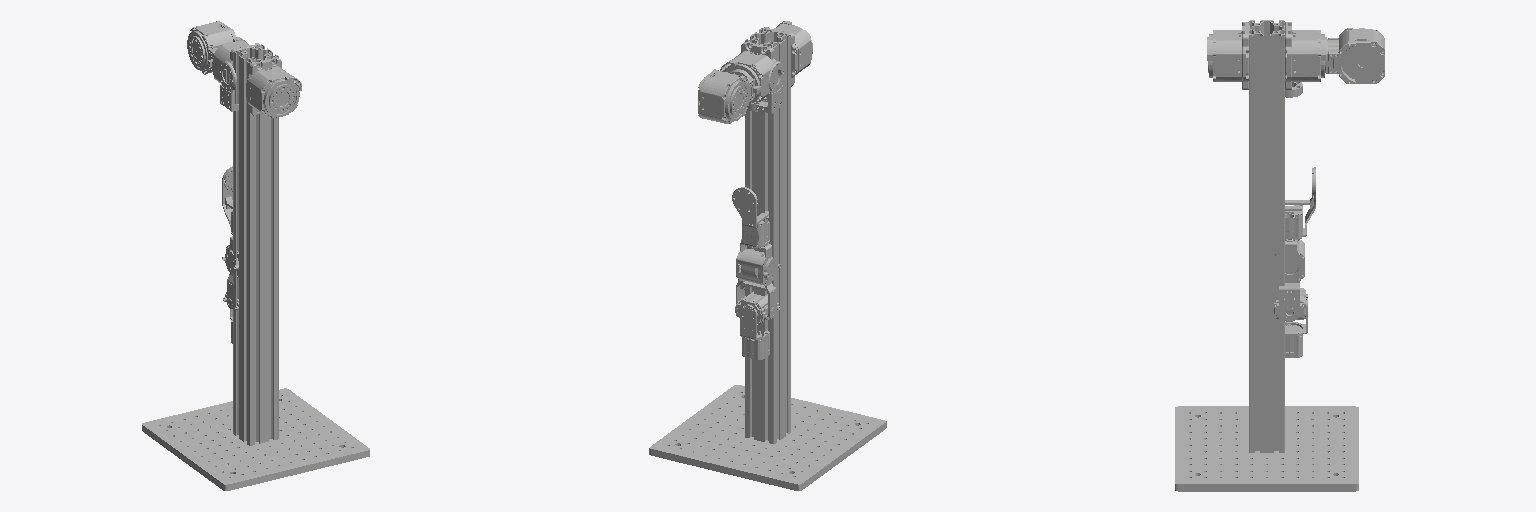
robot.urdf — LiteArm_A10_LeftArm:
<?xml version="1.0" encoding="utf-8"?>
<!-- Left arm display URDF with visual meshes -->
<robot name="LiteArm_A10_LeftArm">
  <link name="base_link">
    <inertial>
      <origin xyz="0.0 0.0 0.05542218" rpy="0 0 0" />
      <mass value="10.57317707" />
      <inertia ixx="0.35705741" ixy="0.0" ixz="0.0" iyy="0.35705741" iyz="0.0" izz="0.13447021" />
    </inertial>
    <visual>
      <origin xyz="0 0 0" rpy="0 0 0" />
      <geometry>
        <mesh filename="package://litearm_a10_251125/meshes/base_link.STL" />
      </geometry>
      <material name="">
        <color rgba="0.752941176470588 0.752941176470588 0.752941176470588 1" />
      </material>
    </visual>
    <collision>
      <origin xyz="0 0 0" rpy="0 0 0" />
      <geometry>
        <mesh filename="package://litearm_a10_251125/meshes/base_link_simplify.STL" />
      </geometry>
    </collision>
  </link>
  <link name="torso_link">
    <inertial>
      <origin xyz="0.00013737 0.0 0.00018058" rpy="0 0 0" />
      <mass value="2.04147618" />
      <inertia ixx="0.01168081" ixy="4.23e-06" ixz="-7.21e-06" iyy="0.00229997" iyz="0.0" izz="0.01155229" />
    </inertial>
    <visual>
      <origin xyz="0 0 0" rpy="0 0 0" />
      <geometry>
        <mesh filename="package://litearm_a10_251125/meshes/torso_link.STL" />
      </geometry>
      <material name="">
        <color rgba="0.752941176470588 0.752941176470588 0.752941176470588 1" />
      </material>
    </visual>
    <collision>
      <origin xyz="0 0 0" rpy="0 0 0" />
      <geometry>
        <mesh filename="package://litearm_a10_251125/meshes/torso_link_simplify.STL" />
      </geometry>
    </collision>
  </link>
  <joint name="torso_joint" type="fixed">
    <origin xyz="0 0 0.7" rpy="0 0 0" />
    <parent link="base_link" />
    <child link="torso_link" />
    <dynamics damping="0.02" friction="0.0" />
  </joint>
  <link name="l_joint1_link">
    <inertial>
      <origin xyz="-0.00600738 0.05288804 0.00023378" rpy="0 0 0" />
      <mass value="1.12932109" />
      <inertia ixx="0.00150342" ixy="5.677e-05" ixz="-7e-07" iyy="0.00116586" iyz="-7.8e-07" izz="0.00137258" />
    </inertial>
    <visual>
      <origin xyz="0 0 0" rpy="0 0 0" />
      <geometry>
        <mesh filename="package://litearm_a10_251125/meshes/l_joint1_link.STL" />
      </geometry>
      <material name="">
        <color rgba="0.752941176470588 0.752941176470588 0.752941176470588 1" />
      </material>
    </visual>
    <collision>
      <origin xyz="0 0 0" rpy="0 0 0" />
      <geometry>
        <mesh filename="package://litearm_a10_251125/meshes/l_joint1_link_simplify.STL" />
      </geometry>
    </collision>
  </link>
  <joint name="l_joint1_joint" type="revolute">
    <origin xyz="0 0.096 0" rpy="0 0 0" />
    <parent link="torso_link" />
    <child link="l_joint1_link" />
    <axis xyz="0 1 0" />
    <limit lower="-3.0543" upper="1.6581" effort="75" velocity="6.0737" />
    <dynamics damping="0.02" friction="0.0" />
  </joint>
  <link name="l_joint2_link">
    <inertial>
      <origin xyz="-0.02317012 0.0 -0.03968965" rpy="0 0 0" />
      <mass value="0.09956239" />
      <inertia ixx="7.689e-05" ixy="0.0" ixz="2.394e-05" iyy="9.208e-05" iyz="0.0" izz="4.871e-05" />
    </inertial>
    <visual>
      <origin xyz="0 0 0" rpy="0 0 0" />
      <geometry>
        <mesh filename="package://litearm_a10_251125/meshes/l_joint2_link.STL" />
      </geometry>
      <material name="">
        <color rgba="0.752941176470588 0.752941176470588 0.752941176470588 1" />
      </material>
    </visual>
    <collision>
      <origin xyz="0 0 0" rpy="0 0 0" />
      <geometry>
        <mesh filename="package://litearm_a10_251125/meshes/l_joint2_link.STL" />
      </geometry>
    </collision>
  </link>
  <joint name="l_joint2_joint" type="revolute">
    <origin xyz="0 -0.059 0" rpy="0 0 0" />
    <parent link="l_joint1_link" />
    <child link="l_joint2_link" />
    <axis xyz="-1 0 0" />
    <limit lower="-2.8623" upper="0.27925" effort="75" velocity="6.0737" />
    <dynamics damping="0.02" friction="0.0" />
  </joint>
  <link name="l_joint3_link">
    <inertial>
      <origin xyz="-0.00411716 -0.00049213 -0.08262124" rpy="0 0 0" />
      <mass value="0.48716788" />
      <inertia ixx="0.00231302" ixy="5.8e-07" ixz="-3.282e-05" iyy="0.00218288" iyz="-2.225e-05" izz="0.00065528" />
    </inertial>
    <visual>
      <origin xyz="0 0 0" rpy="0 0 0" />
      <geometry>
        <mesh filename="package://litearm_a10_251125/meshes/l_joint3_link.STL" />
      </geometry>
      <material name="">
        <color rgba="0.752941176470588 0.752941176470588 0.752941176470588 1" />
      </material>
    </visual>
    <collision>
      <origin xyz="0 0 0" rpy="0 0 0" />
      <geometry>
        <mesh filename="package://litearm_a10_251125/meshes/l_joint3_link.STL" />
      </geometry>
    </collision>
  </link>
  <joint name="l_joint3_joint" type="revolute">
    <origin xyz="0.00075 0 -0.0646" rpy="0 0 0" />
    <parent link="l_joint2_link" />
    <child link="l_joint3_link" />
    <axis xyz="0 0 -1" />
    <limit lower="-1.5708" upper="1.5708" effort="50" velocity="6.0737" />
    <dynamics damping="0.02" friction="0.0" />
  </joint>
  <link name="l_joint4_link">
    <inertial>
      <origin xyz="-0.00192955 -0.0007977 -0.05668517" rpy="0 0 0" />
      <mass value="0.42151988" />
      <inertia ixx="0.0006874" ixy="9.8e-07" ixz="3.96e-06" iyy="0.0004971" iyz="2.077e-05" izz="0.00033631" />
    </inertial>
    <visual>
      <origin xyz="0 0 0" rpy="0 0 0" />
      <geometry>
        <mesh filename="package://litearm_a10_251125/meshes/l_joint4_link.STL" />
      </geometry>
      <material name="">
        <color rgba="0.752941176470588 0.752941176470588 0.752941176470588 1" />
      </material>
    </visual>
    <collision>
      <origin xyz="0 0 0" rpy="0 0 0" />
      <geometry>
        <mesh filename="package://litearm_a10_251125/meshes/l_joint4_link.STL" />
      </geometry>
    </collision>
  </link>
  <joint name="l_joint4_joint" type="revolute">
    <origin xyz="0 5E-05 -0.1615" rpy="0 0 0" />
    <parent link="l_joint3_link" />
    <child link="l_joint4_link" />
    <axis xyz="0 1 0" />
    <limit lower="-2.44" upper="1.57" effort="50" velocity="6.0737" />
    <dynamics damping="0.02" friction="0.0" />
  </joint>
  <link name="l_joint5_link">
    <inertial>
      <origin xyz="-0.00434961 0.00026606 -0.05218834" rpy="0 0 0" />
      <mass value="0.54640883" />
      <inertia ixx="0.00051953" ixy="8e-08" ixz="-1.146e-05" iyy="0.00060649" iyz="-1e-06" izz="0.00028678" />
    </inertial>
    <visual>
      <origin xyz="0 0 0" rpy="0 0 0" />
      <geometry>
        <mesh filename="package://litearm_a10_251125/meshes/l_joint5_link.STL" />
      </geometry>
      <material name="">
        <color rgba="0.752941176470588 0.752941176470588 0.752941176470588 1" />
      </material>
    </visual>
    <collision>
      <origin xyz="0 0 0" rpy="0 0 0" />
      <geometry>
        <mesh filename="package://litearm_a10_251125/meshes/l_joint5_link.STL" />
      </geometry>
    </collision>
  </link>
  <joint name="l_joint5_joint" type="revolute">
    <origin xyz="0 0 -0.094" rpy="0 0 0" />
    <parent link="l_joint4_link" />
    <child link="l_joint5_link" />
    <axis xyz="0 0 -1" />
    <limit lower="-1.5708" upper="1.5708" effort="10" velocity="10.263" />
    <dynamics damping="0.02" friction="0.0" />
  </joint>
  <link name="l_joint6_link">
    <inertial>
      <origin xyz="-0.00042158 0.00237788 0.00010463" rpy="0 0 0" />
      <mass value="0.26605252" />
      <inertia ixx="0.00010511" ixy="-2e-07" ixz="-4.9e-07" iyy="0.00010704" iyz="1.3e-07" izz="0.0001287" />
    </inertial>
    <visual>
      <origin xyz="0 0 0" rpy="0 0 0" />
      <geometry>
        <mesh filename="package://litearm_a10_251125/meshes/l_joint6_link.STL" />
      </geometry>
      <material name="">
        <color rgba="0.752941176470588 0.752941176470588 0.752941176470588 1" />
      </material>
    </visual>
    <collision>
      <origin xyz="0 0 0" rpy="0 0 0" />
      <geometry>
        <mesh filename="package://litearm_a10_251125/meshes/l_joint6_link.STL" />
      </geometry>
    </collision>
  </link>
  <joint name="l_joint6_joint" type="revolute">
    <origin xyz="0 0 -0.1255" rpy="0 0 0" />
    <parent link="l_joint5_link" />
    <child link="l_joint6_link" />
    <axis xyz="-1 0 0" />
    <limit lower="-0.76794" upper="0.76794" effort="20" velocity="6.2832" />
    <dynamics damping="0.02" friction="0.0" />
  </joint>
  <link name="l_joint7_link">
    <inertial>
      <origin xyz="-3.036e-05 0.00016972 -0.08950102" rpy="0 0 0" />
      <mass value="0.61408261" />
      <inertia ixx="0.00146206" ixy="1.3e-06" ixz="2.9e-07" iyy="0.0011969" iyz="-7.19e-06" izz="0.00044649" />
    </inertial>
    <visual>
      <origin xyz="0 0 0" rpy="0 0 0" />
      <geometry>
        <mesh filename="package://litearm_a10_251125/meshes/l_joint7_link.STL" />
      </geometry>
      <material name="">
        <color rgba="0.752941176470588 0.752941176470588 0.752941176470588 1" />
      </material>
    </visual>
    <collision>
      <origin xyz="0 0 0" rpy="0 0 0" />
      <geometry>
        <mesh filename="package://litearm_a10_251125/meshes/l_joint7_link_simplify.STL" />
      </geometry>
    </collision>
  </link>
  <joint name="l_joint7_joint" type="revolute">
    <origin xyz="0 0 0" rpy="0 0 0" />
    <parent link="l_joint6_link" />
    <child link="l_joint7_link" />
    <axis xyz="0 1 0" />
    <limit lower="-1.5708" upper="1.5708" effort="10" velocity="10.263" />
    <dynamics damping="0.02" friction="0.0" />
  </joint>
</robot>

--- Render facts (derived) ---
3 views of the same robot in one strip: view 1: azimuth 30°, elevation 25°; view 2: azimuth 150°, elevation 25°; view 3: azimuth 270°, elevation 25° (orthographic).
Robot: LiteArm_A10_LeftArm — 9 links, 8 joints (7 revolute, 1 fixed); root link base_link; default pose: every joint at zero.
Links seen in each view (by area): view 1: base_link, torso_link, l_joint1_link, l_joint2_link, l_joint5_link, l_joint4_link; view 2: base_link, torso_link, l_joint1_link, l_joint5_link, l_joint4_link, l_joint7_link, l_joint2_link, l_joint6_link; view 3: base_link, torso_link, l_joint1_link, l_joint5_link, l_joint4_link, l_joint7_link.
Link boxes in pixels (box(x1,y1,x2,y2)): base_link: box(142, 44, 369, 490); torso_link: box(212, 37, 301, 117); l_joint1_link: box(187, 21, 236, 74); l_joint2_link: box(219, 61, 238, 111); l_joint5_link: box(222, 236, 238, 308); l_joint4_link: box(222, 166, 232, 234); base_link: box(649, 28, 886, 490); torso_link: box(720, 21, 812, 104); l_joint1_link: box(698, 69, 760, 123); l_joint5_link: box(736, 243, 781, 318); l_joint4_link: box(732, 187, 769, 247); l_joint7_link: box(740, 305, 769, 359); l_joint2_link: box(747, 61, 783, 113); l_joint6_link: box(735, 291, 779, 325); base_link: box(1175, 20, 1358, 491); torso_link: box(1207, 22, 1326, 89); l_joint1_link: box(1326, 28, 1384, 83); l_joint5_link: box(1274, 238, 1304, 321); l_joint4_link: box(1285, 167, 1315, 239); l_joint7_link: box(1285, 294, 1307, 357).
Size in the robot's own frame: 0.3 by 0.3425 by 0.763 metres.
8 mesh visuals loaded from 9 distinct referenced files (8 binary STL); not drawn: 1 (reference not matched to a file when rendering).
